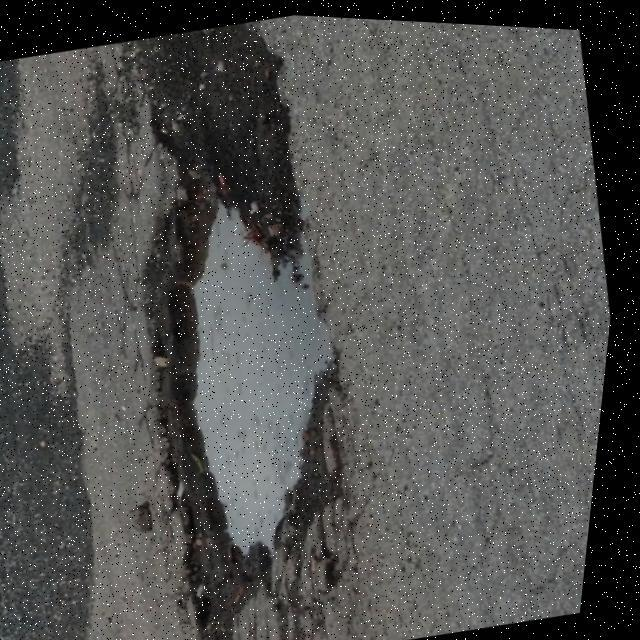pothole: (95, 147, 403, 600)
